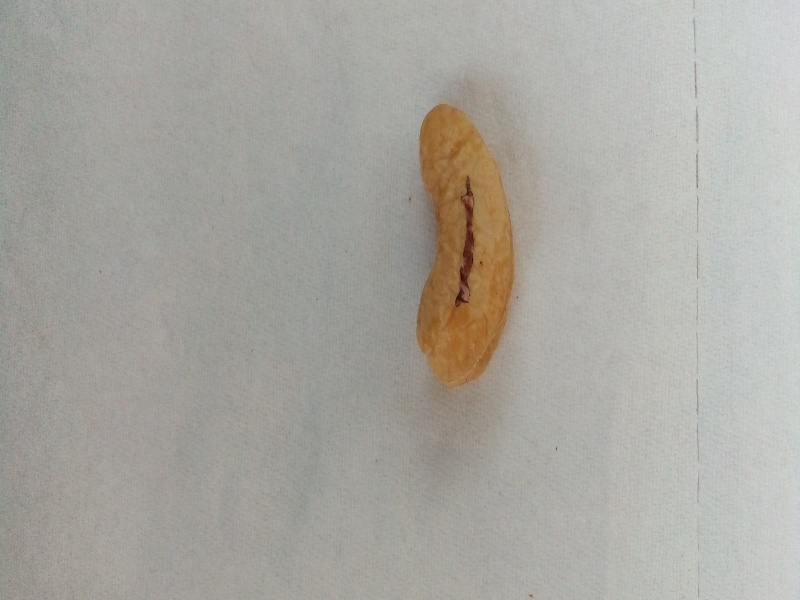cashew: (375, 80, 538, 401)
